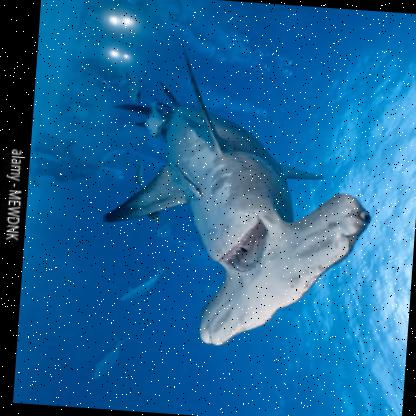hammerhead_Shark: (84, 39, 388, 361)
